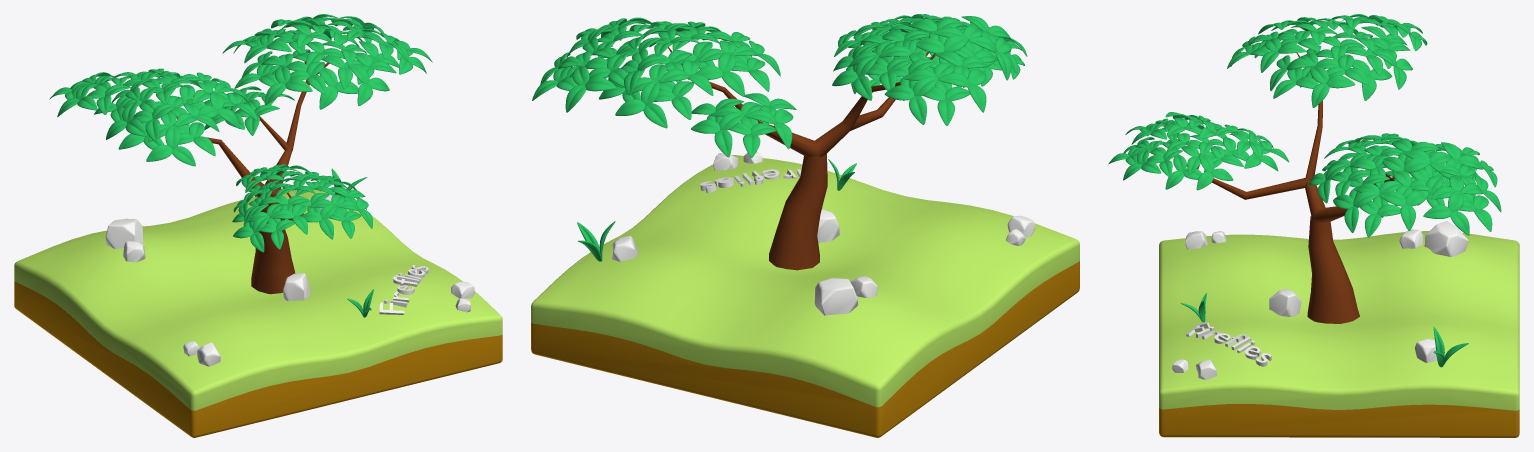
The picture shows the model from 3 angles, left to right: view 1: azimuth 30°, elevation 25°; view 2: azimuth 150°, elevation 25°; view 3: azimuth 270°, elevation 25°; orthographic projection. The views are drawn at different scales.
Parts seen in each view (by area): view 1: Plane; view 2: Plane; view 3: Plane.
Boxes of the visible parts, x1,y1,x2,y2 form: Plane: (14, 14, 502, 437); Plane: (531, 14, 1079, 437); Plane: (1108, 14, 1519, 437).
Size of the model in its own units: 9.46 by 6.97 by 9.13.
